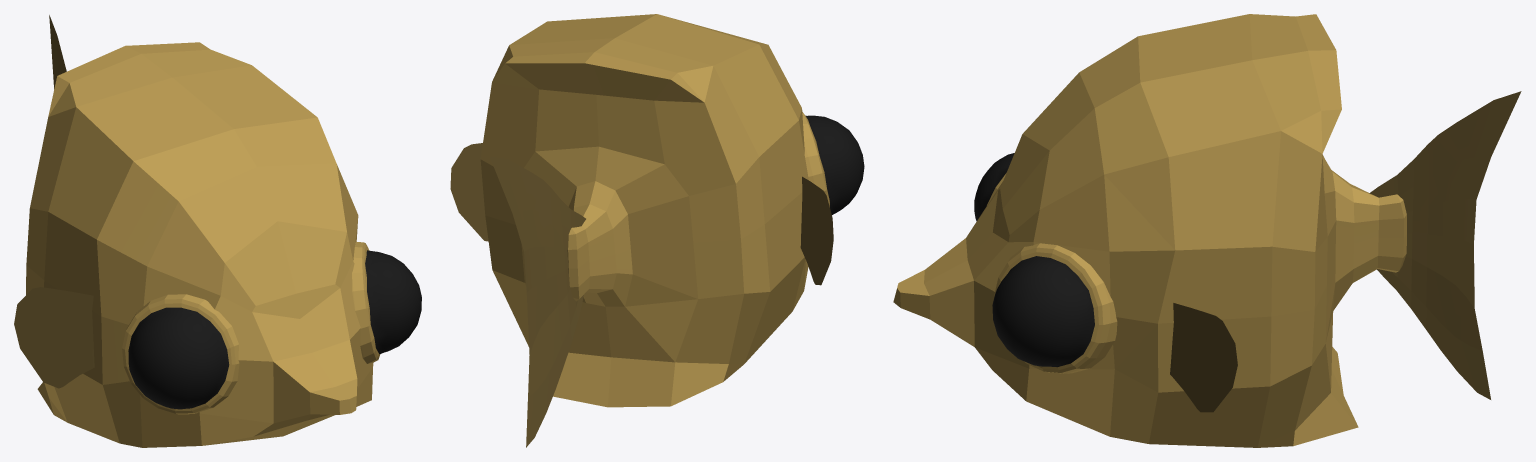
The model's file is YellowTang.glb.
The picture shows the model from 3 angles, left to right: view 1: azimuth 30°, elevation 25°; view 2: azimuth 150°, elevation 25°; view 3: azimuth 270°, elevation 25°; orthographic projection. The views are drawn at different scales.
Parts seen in each view (by area): view 1: YellowTang_Icosphere.025; view 2: YellowTang_Icosphere.025; view 3: YellowTang_Icosphere.025.
Boxes of the visible parts, x1,y1,x2,y2 form: YellowTang_Icosphere.025: (14,15,421,447); YellowTang_Icosphere.025: (450,14,864,447); YellowTang_Icosphere.025: (893,14,1521,447).
Bounding box in the file's own units: 3.22 × 2.87 × 4.48.
